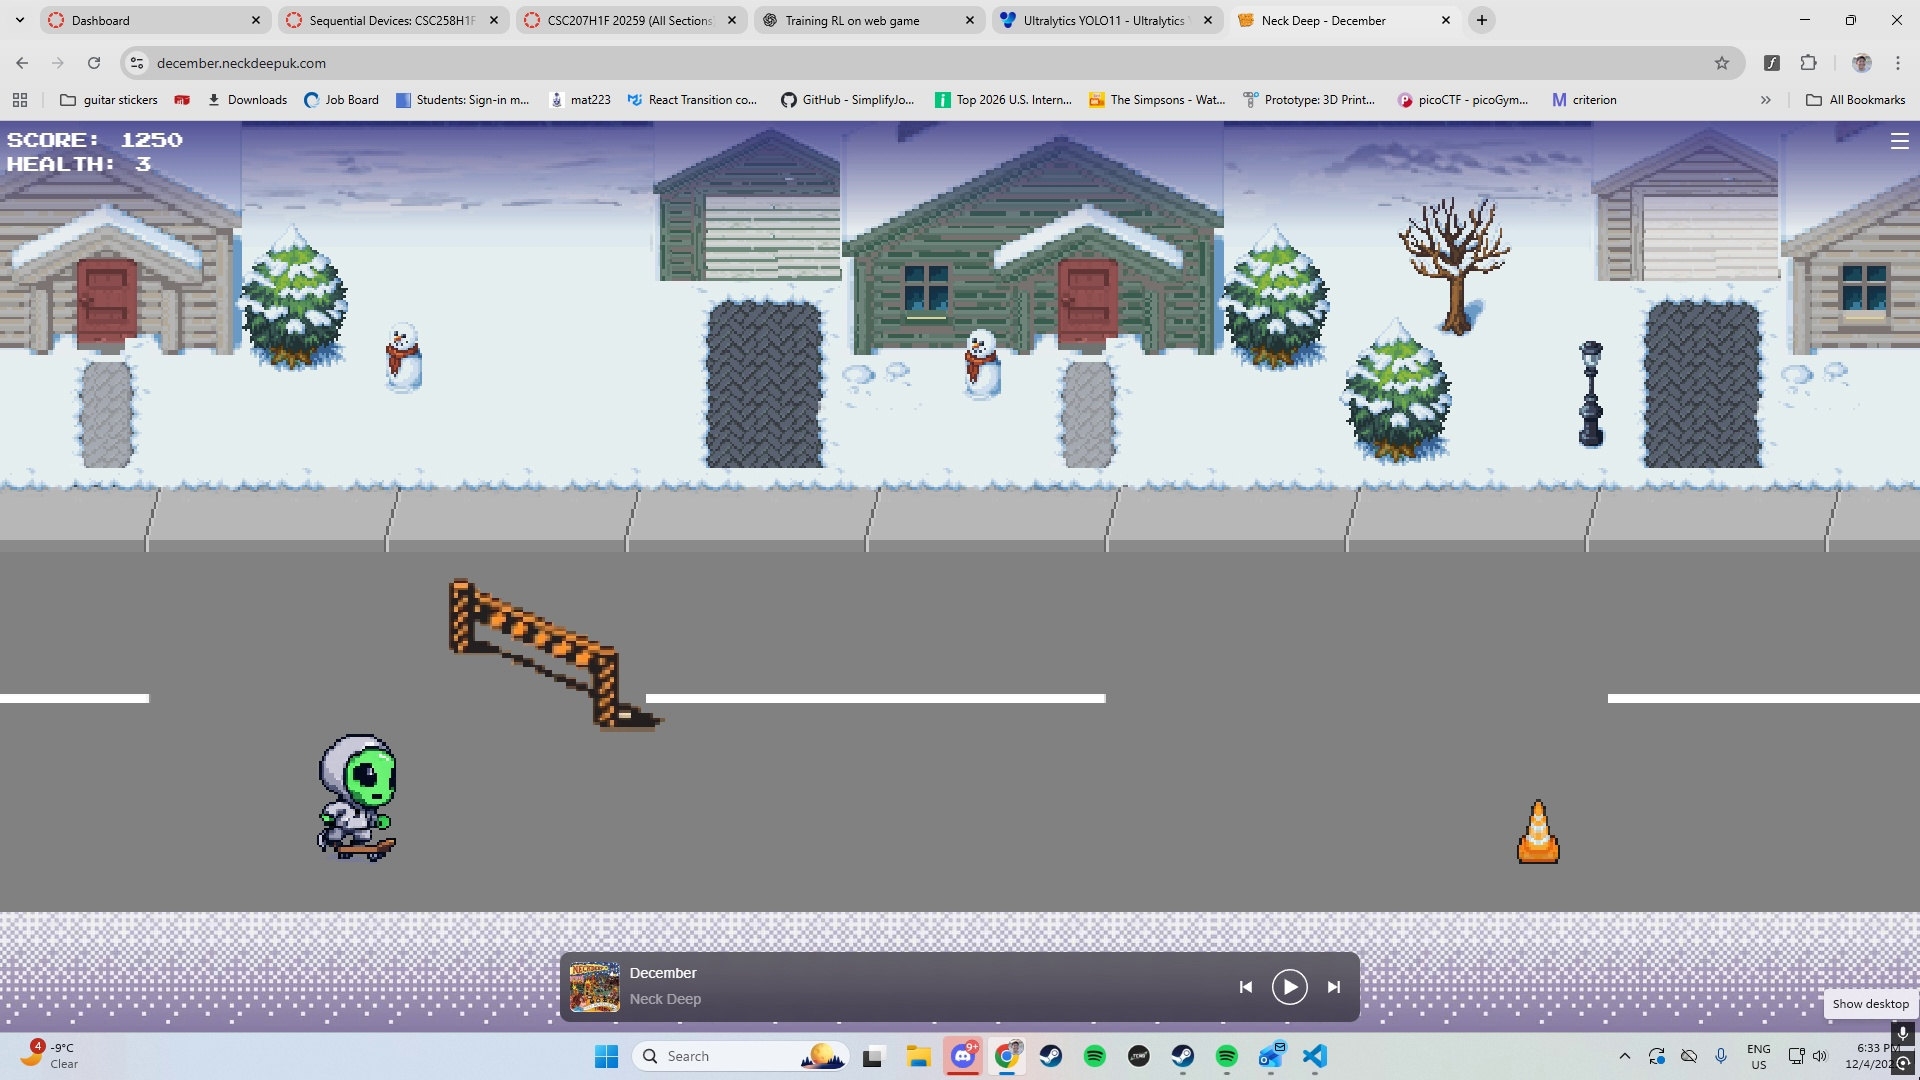Cone: (1512, 790, 1567, 870)
Player: (311, 727, 407, 869)
RoadBlock: (442, 575, 677, 736)
